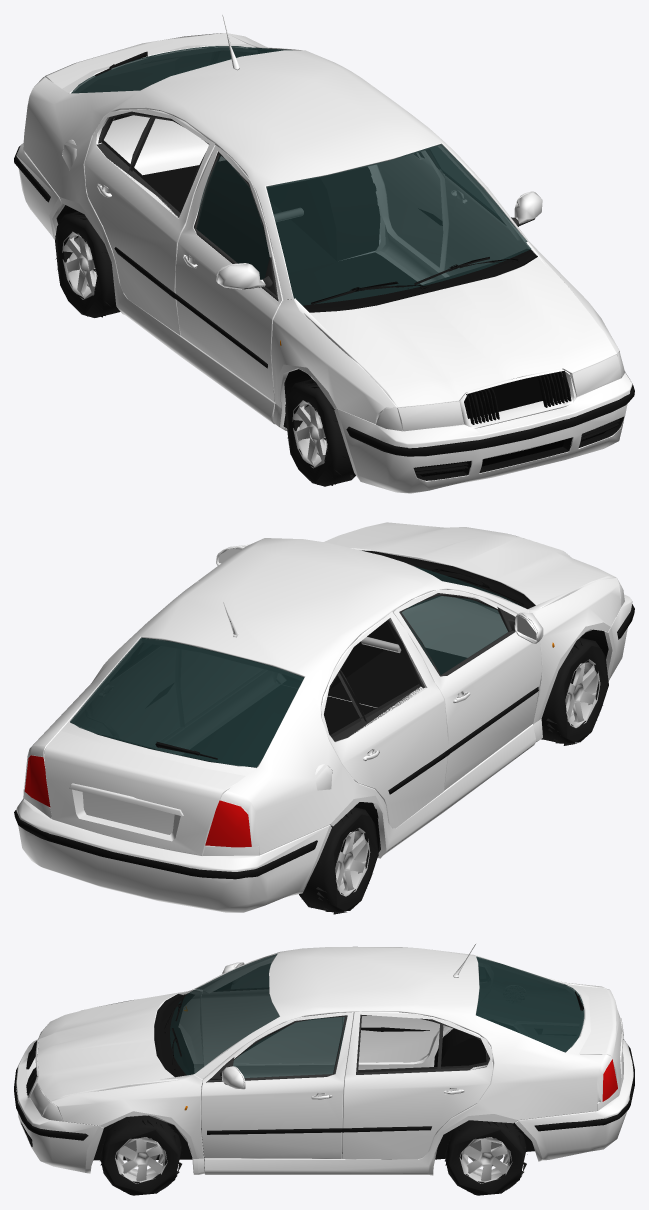
The picture shows the model from 3 angles, top to bottom: view 1: azimuth 30°, elevation 25°; view 2: azimuth 150°, elevation 25°; view 3: azimuth 270°, elevation 25°; orthographic projection. The views are drawn at different scales.
Visible parts, largest first — view 1: body, glass, wheel_FL, wheel_RL; view 2: body, glass, wheel_RL, wheel_FL; view 3: body, glass, wheel_FR, wheel_RR.
Boxes of the visible parts, x1,y1,x2,y2 form: body: (14,15,634,493); glass: (71,46,531,305); wheel_FL: (285,379,355,486); wheel_RL: (55,211,120,317); body: (14,522,634,912); glass: (70,566,523,767); wheel_RL: (299,807,378,914); wheel_FL: (541,638,608,745); body: (14,944,634,1175); glass: (170,953,584,1078); wheel_FR: (100,1115,182,1195); wheel_RR: (445,1120,527,1195).
Size of the model in its own units: 2.04 by 1.66 by 4.57.
